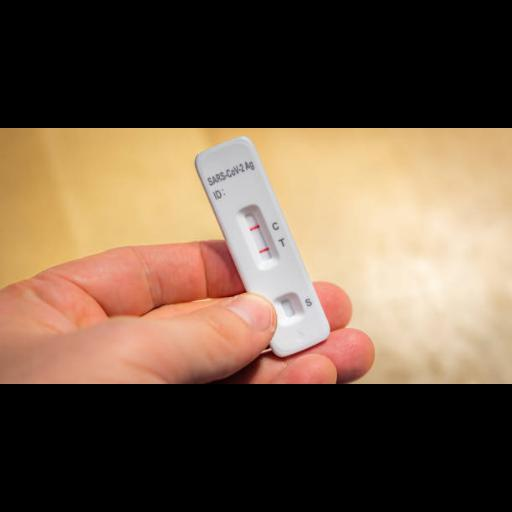Pos: (194, 133, 332, 359)
